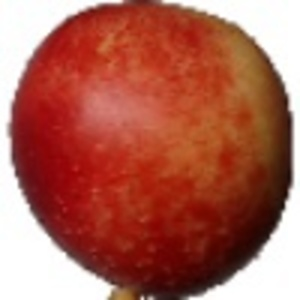nectarina: (6, 1, 300, 300)
